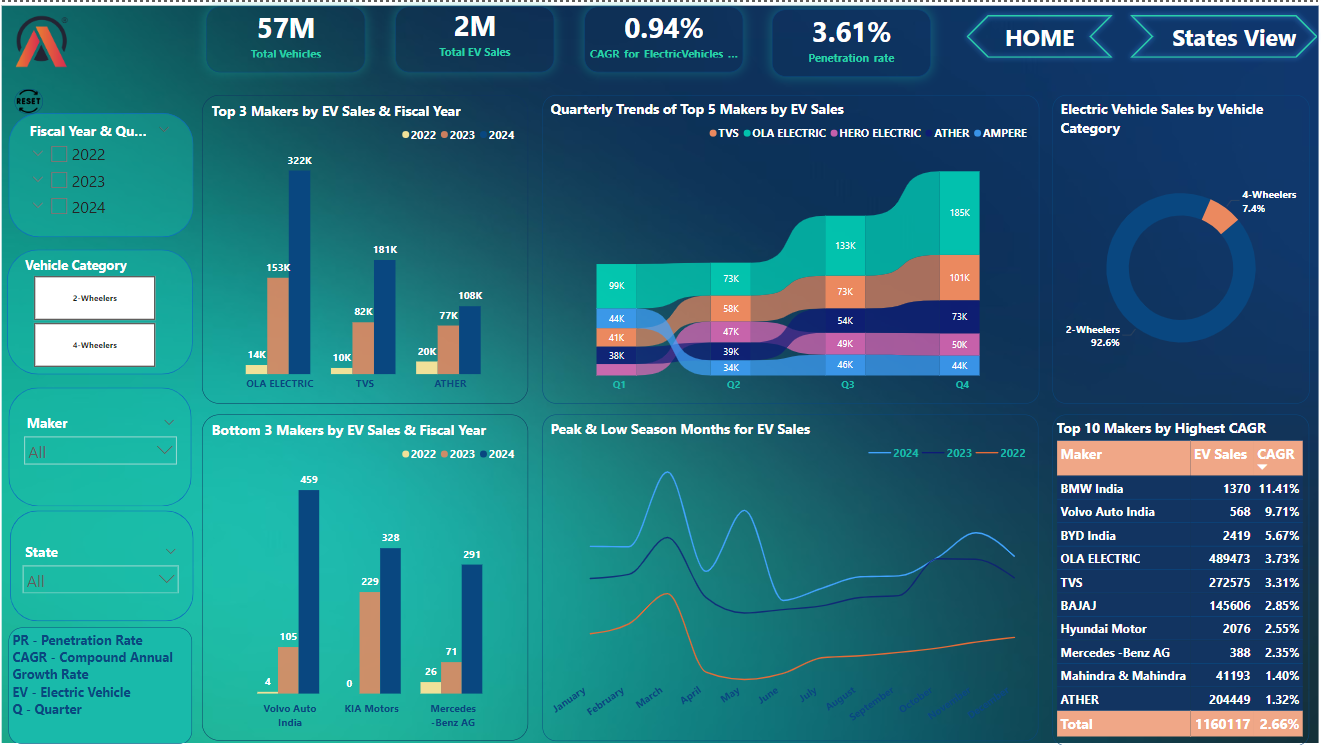

What the dashboard file says about the page in this screenshot:
{"tool":"powerbi","page":{"name":"Makers View","canvas":[1920,1080],"ordinal":2},"visuals":[{"type":"group","id":"g1","title":"Makers View","box":[1.2,0,1920,1080],"z":0},{"type":"image","title":"Background Image","box":[1.2,0,1920,1080],"z":0,"group":"g1"},{"type":"shape","box":[1500,6.2,90,90],"z":0,"group":"g5"},{"type":"shape","box":[1600,7.5,92.5,90],"z":0,"group":"g3"},{"type":"shape","box":[1389.5,9.4,90,90],"z":0,"group":"g2"},{"type":"shape","box":[1704.7,9.4,90,90],"z":0,"group":"g6"},{"type":"image","title":"Greencar","box":[62.5,10,125,110],"z":0,"group":"g7"},{"type":"clusteredColumnChart","title":"Top 3 Makers by EV Sales & FY","fields":{"Category":["dim_makers.maker"],"Y":["Key_Measures.Electric_Vehicles_Sold_maker"],"Series":["dim_date.fiscal_year"]},"box":[17.4,150,557.5,445],"z":0,"group":"g8"},{"type":"lineChart","title":"Peak & Low Season Months for EV Sales","fields":{"Y":["Key_Measures.Electric_Vehicles_Sold_maker"],"Category":["dim_date.Date_Mod.Variation.Date Hierarchy.Month"],"Series":["dim_date.fiscal_year"]},"box":[588.1,615,795.9,455.8],"z":0,"group":"g4"},{"type":"image","title":"Atliq","box":[12.5,0,95,87.5],"z":1000,"group":"g7"},{"type":"group","id":"g2","title":"HomePageBtn","box":[1389.5,9.4,90,90],"z":1000},{"type":"image","title":"States","box":[1510,11.2,72.5,75],"z":1000,"group":"g5"},{"type":"image","title":"Home","box":[1399.5,14.4,72.5,75],"z":1000,"group":"g2"},{"type":"image","title":"StatesComp","box":[1714.7,14.4,72.5,75],"z":1000,"group":"g6"},{"type":"image","title":"Makers","box":[1610,15,72.5,75],"z":1000,"group":"g3"},{"type":"actionButton","title":"Show Top 3","box":[34.4,190.8,132.3,39.8],"z":1000,"group":"g8"},{"type":"pieChart","title":"Vehicle Category by Revenue","fields":{"Category":["dim_category.vehicle_category"],"Y":["ev_sales_by_state.2_Wheelers_EV_Revenue","ev_sales_by_state.4_Wheelers_EV_Revenue"]},"box":[17.4,615,560,455],"z":1000,"group":"g1"},{"type":"group","id":"g3","title":"MakersViewBtn","box":[1600,7.5,92.5,90],"z":2000},{"type":"group","id":"g4","title":"Top10StatesHighestEVSold","box":[588.1,615,795,455],"z":2000,"group":"g1"},{"type":"group","id":"g5","title":"StatesViewBtn","box":[1500,6.2,90,90],"z":3000},{"type":"tableEx","title":"Top 10 Makers by Highest CAGR","fields":{"Values":["dim_makers.maker","Key_Measures.Electric_Vehicles_Sold_maker","Key_Measures.CAGR_for_ElectricVehicles_maker"]},"box":[1398.1,595,505,485],"z":3000,"group":"g1"},{"type":"group","id":"g6","title":"StatesComparisionBtn","box":[1704.7,9.4,90,90],"z":3500},{"type":"image","title":"FiltersButton","box":[1830,10,90,90],"z":4000},{"type":"donutChart","title":"Electric Vehicle Sales by Vehicle Category","fields":{"Category":["dim_category.vehicle_category"],"Y":["Key_Measures.Electric_Vehicles_Sold_maker"]},"box":[1398.1,150,505,432.5],"z":4000,"group":"g1"},{"type":"ribbonChart","title":"Quarterly Trends of Top 5 Makers by EV Sales","fields":{"Category":["dim_date.quarter"],"Y":["Key_Measures.Electric_Vehicles_Sold_maker"],"Series":["dim_makers.maker"]},"box":[588.1,150,790,432.5],"z":5000,"group":"g1"},{"type":"group","id":"g7","title":"AtliqLogo","box":[12.5,0,175,120],"z":6000},{"type":"group","id":"g8","title":"Top 3 Makers","box":[17.4,150,557.5,445],"z":7000,"group":"g1"},{"type":"card","title":"Projected EV Sales 2030","fields":{"Values":["Key_Measures.Penetration_rate"]},"box":[1123.7,10,230,97.5],"z":8000,"group":"g1"},{"type":"card","title":"CAGR for Total Vehicles","fields":{"Values":["Key_Measures.CAGR_for_ElectricVehicles_maker"]},"box":[850.4,7.5,230,95],"z":9000,"group":"g1"},{"type":"card","title":"CAGR for Electric Vehicles","fields":{"Values":["Key_Measures.Electric_Vehicles_Sold_maker"]},"box":[577,7.5,230,95],"z":10000,"group":"g1"},{"type":"card","title":"2W EV Revenue","fields":{"Values":["Key_Measures.Total_vehicles_Sold"]},"box":[303.7,7.5,230,95],"z":11000,"group":"g1"}]}

Visuals, with their boxes in screenshot pixels (x1, y1, x2, y2), scaled from the page's 1920x1080 canvas onto the 1321x745 screenshot:
"Makers View" group: 1:0:1320:744
"Background Image" image: 1:0:1320:744
shape: 1032:4:1094:66
shape: 1101:5:1164:67
shape: 956:6:1018:69
shape: 1173:6:1235:69
"Greencar" image: 43:7:129:83
"Top 3 Makers by EV Sales & FY" clusteredColumnChart: 12:103:396:410
"Peak & Low Season Months for EV Sales" lineChart: 405:424:952:739
"Atliq" image: 9:0:74:60
"HomePageBtn" group: 956:6:1018:69
"States" image: 1039:8:1089:59
"Home" image: 963:10:1013:62
"StatesComp" image: 1180:10:1230:62
"Makers" image: 1108:10:1158:62
"Show Top 3" actionButton: 24:132:115:159
"Vehicle Category by Revenue" pieChart: 12:424:397:738
"MakersViewBtn" group: 1101:5:1164:67
"Top10StatesHighestEVSold" group: 405:424:952:738
"StatesViewBtn" group: 1032:4:1094:66
"Top 10 Makers by Highest CAGR" tableEx: 962:410:1309:744
"StatesComparisionBtn" group: 1173:6:1235:69
"FiltersButton" image: 1259:7:1320:69
"Electric Vehicle Sales by Vehicle Category" donutChart: 962:103:1309:402
"Quarterly Trends of Top 5 Makers by EV Sales" ribbonChart: 405:103:948:402
"AtliqLogo" group: 9:0:129:83
"Top 3 Makers" group: 12:103:396:410
"Projected EV Sales 2030" card: 773:7:931:74
"CAGR for Total Vehicles" card: 585:5:743:71
"CAGR for Electric Vehicles" card: 397:5:555:71
"2W EV Revenue" card: 209:5:367:71
